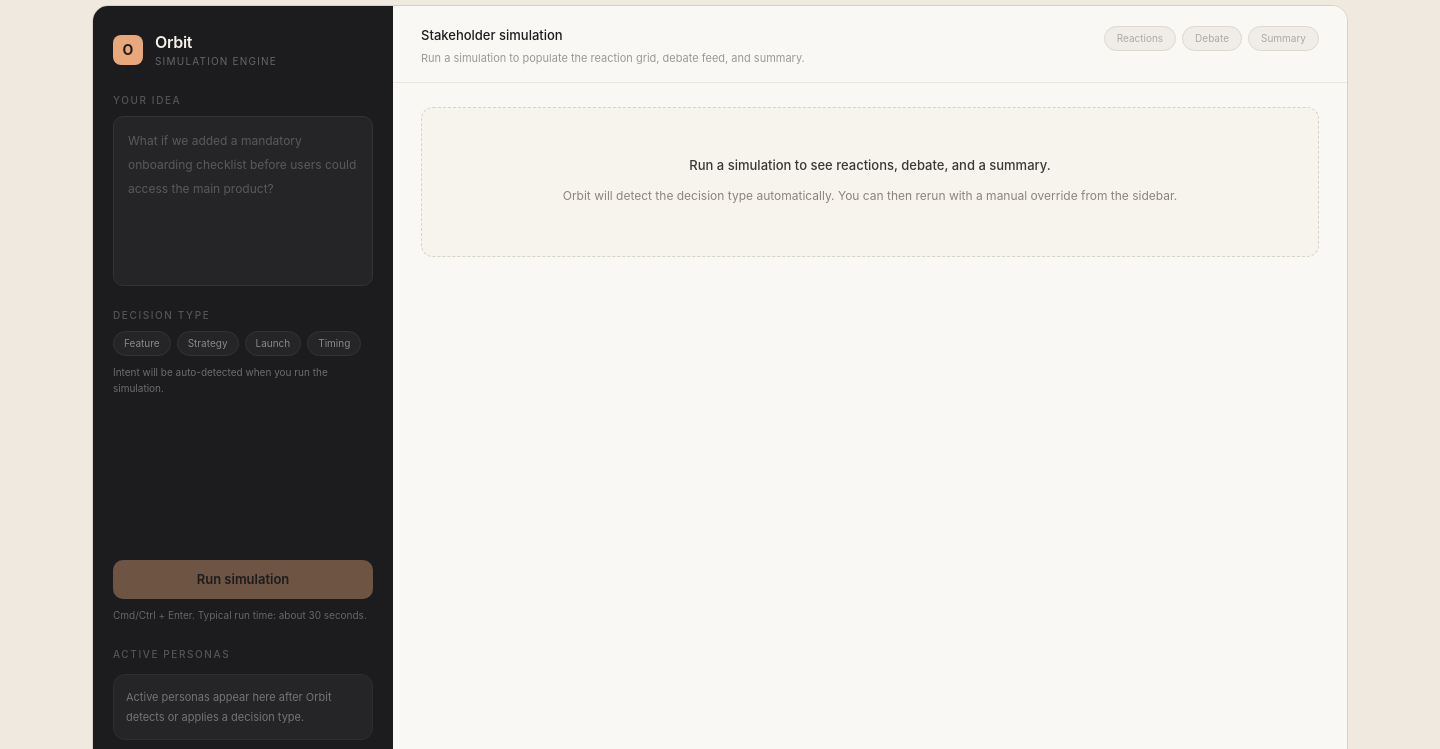
Scenario: Orbit App › runs the mocked simulation flow and supports steering
Replace the text in the text box with placeholder "mandatory onboarding checklist" with "Should we add an AI meeting notes feature?" at (243, 201), box [113,116,373,286]
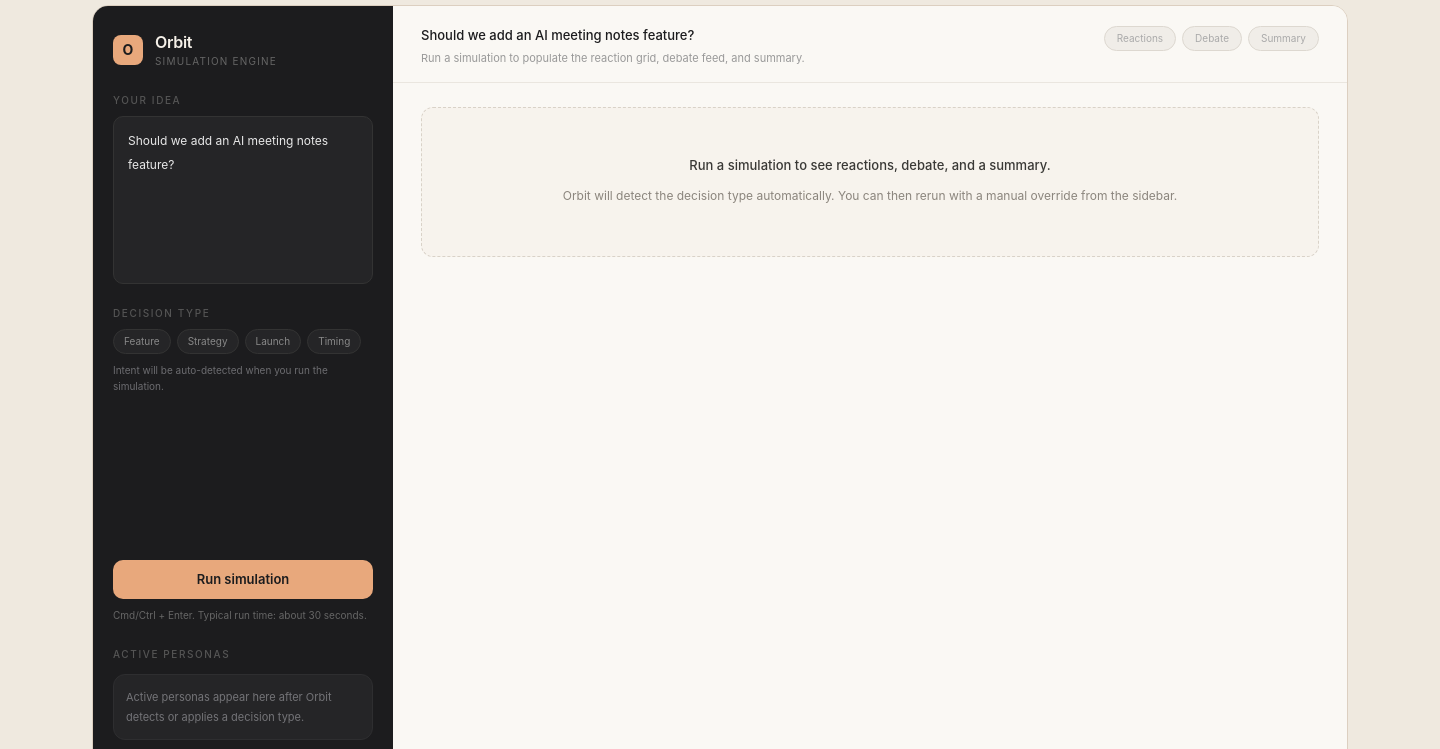
Click the button "Run simulation" at (243, 579), box [113,560,373,599]
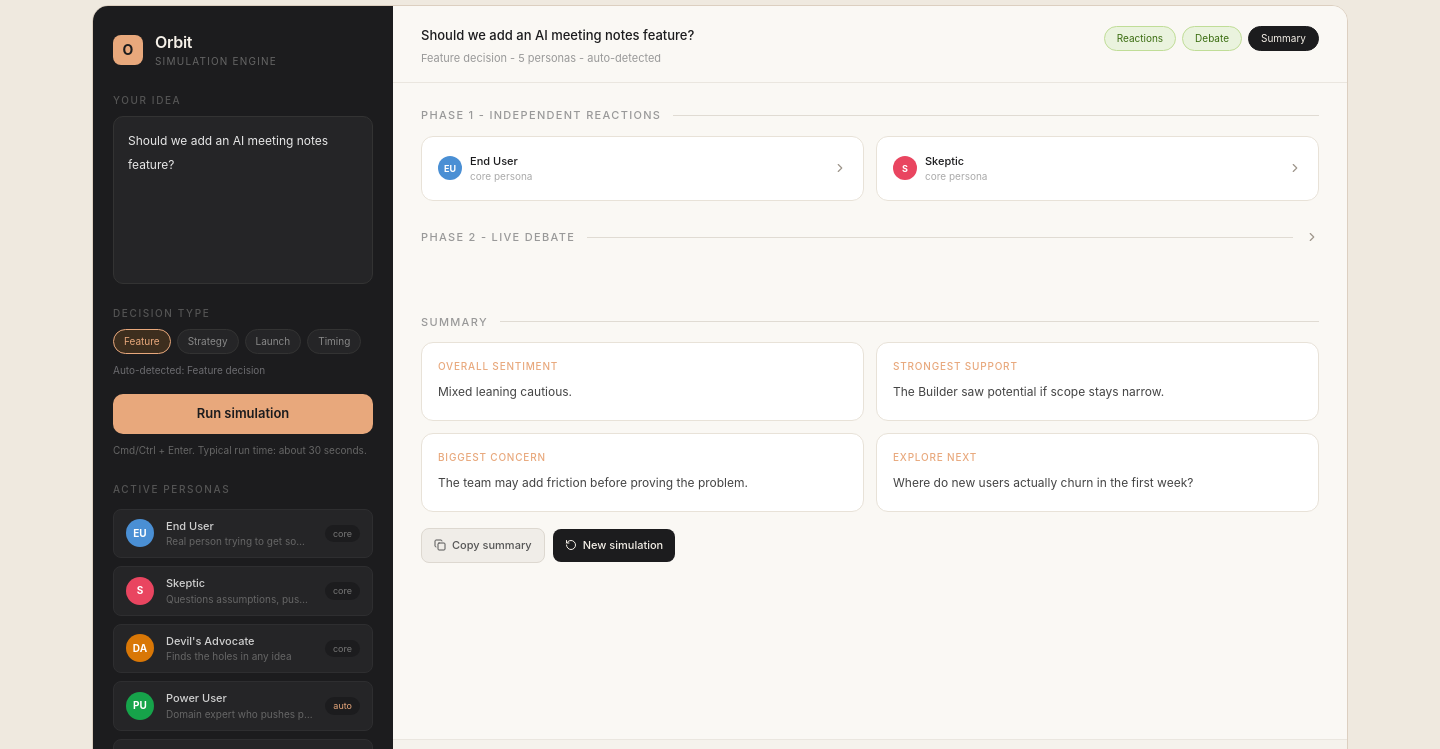
Check: the text "We should validate the drop-off first." is not shown
Check: the text "Mixed leaning cautious." is shown, box [438,384,572,399]
Click the button "Phase 2 - live debate" at (498, 237), box [421,229,1319,246]
(page scrolled)
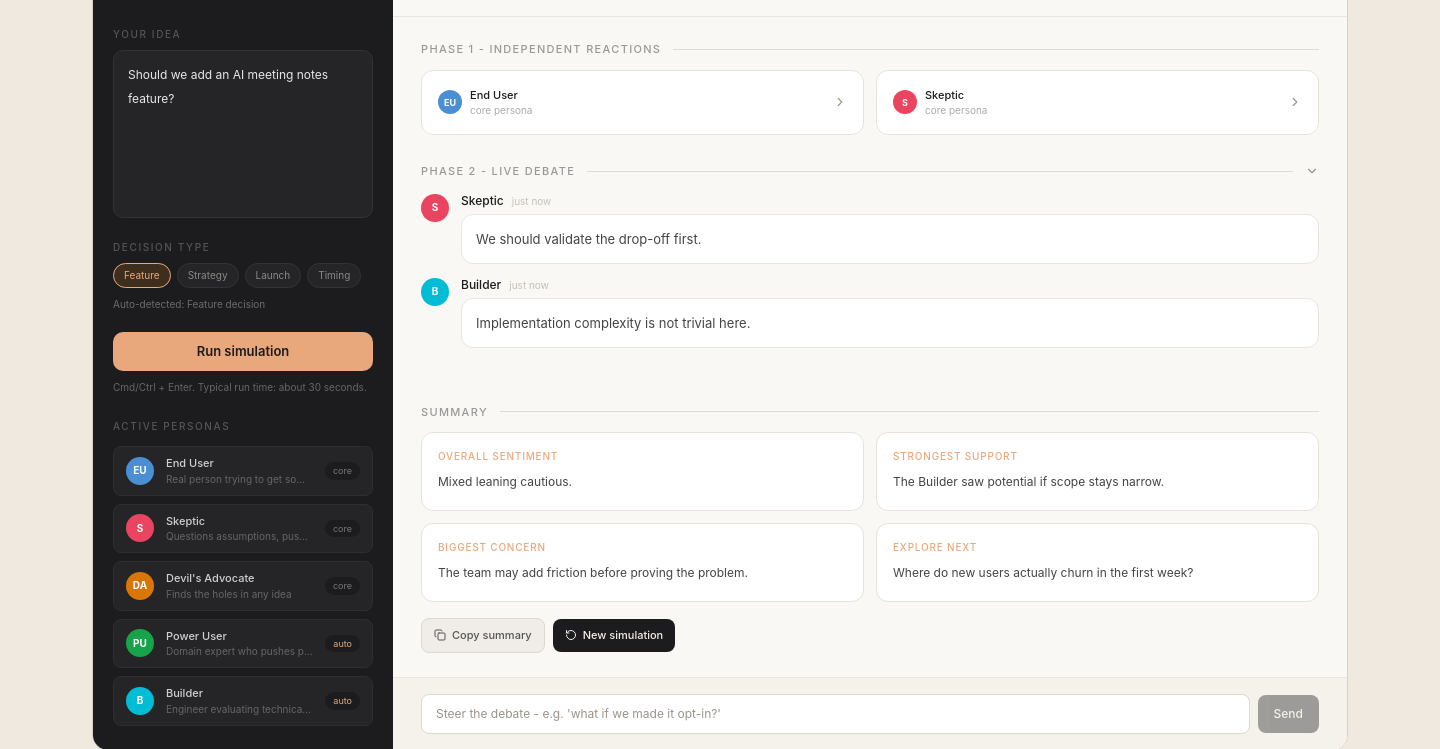
Check: the text "We should validate the drop-off first." is shown, box [461,214,1319,264]
Type "What if we made it opt-in?" into the field with placeholder "Steer the debate - e.g. 'what if we made it opt-in?'" at (835, 714), box [421,694,1250,734]
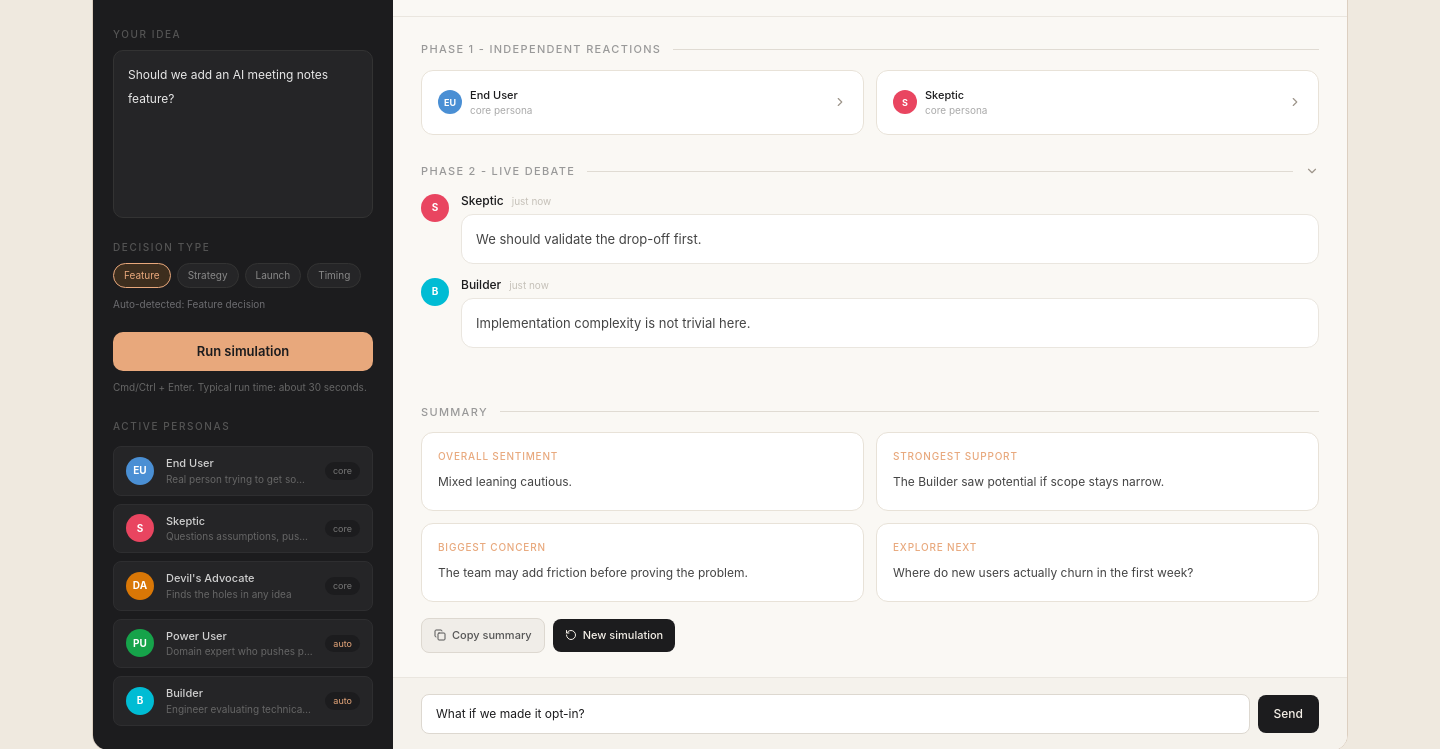
Click the button "Send" at (1288, 714), box [1258,694,1319,732]
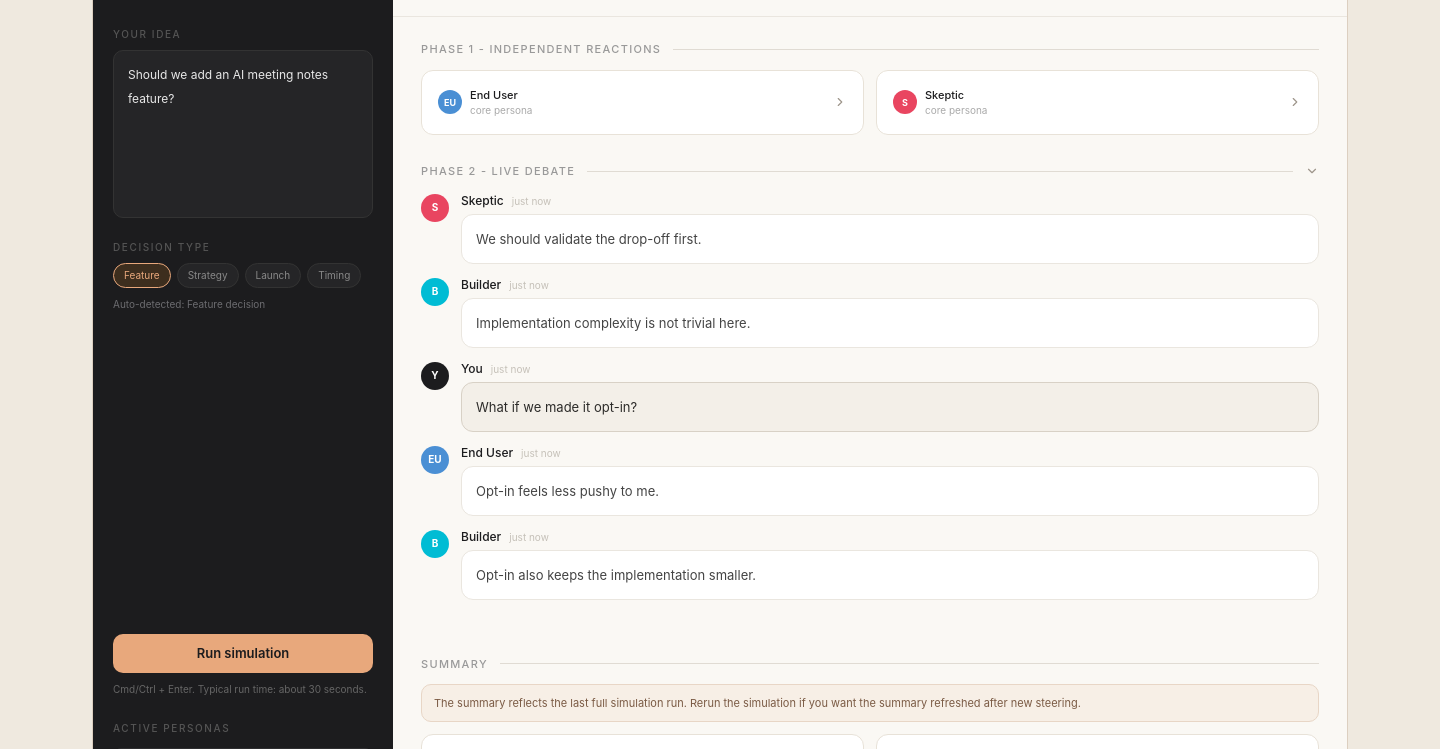
Check: the text "Opt-in feels less pushy to me." is shown, box [461,466,1319,516]
Check: the text "The summary reflects the last full simulation run." is shown, box [434,696,1081,710]
